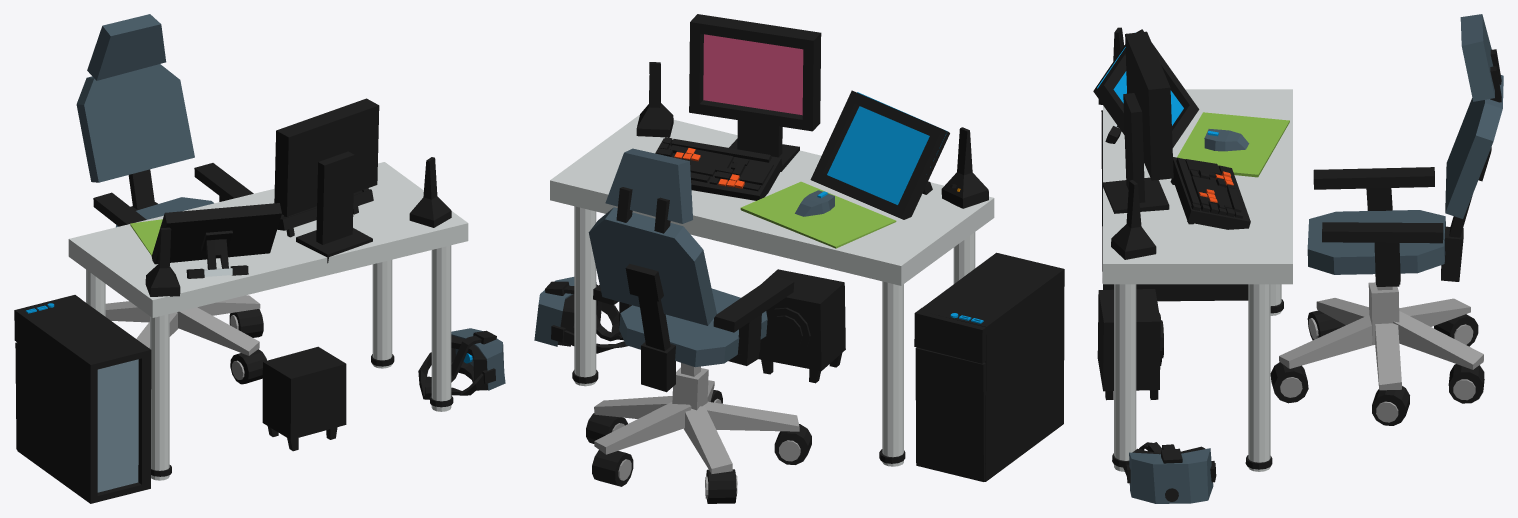
Rendered from Desk.glb.
3 views of the same model, side by side, from view 1: azimuth 30°, elevation 25°; view 2: azimuth 150°, elevation 25°; view 3: azimuth 270°, elevation 25° (orthographic). The views are drawn at different scales.
Parts seen in each view (by area): view 1: group888398126, group1983538, group81405755, group925625628, group1208538528, group431115471, group1667325453, group2046477336, group2099217571, group1838156572, group1716067366, group1572790744 (+15 smaller); view 2: group888398126, group1983538, group81405755, group925625628, group1208538528, group431115471, group755938708, group782932201, group1667325453, group1394341533, group639335673, group1716067366 (+23 smaller); view 3: group1983538, group81405755, group1394341533, group2046477336, group1208538528, group755938708, group1716067366, group2099217571, group925625628, group782932201, group1057092642, group970859449 (+22 smaller).
Part boxes in pixels (box(x1,y1,x2,y2)): group888398126: box(14, 295, 151, 503); group1983538: box(68, 162, 468, 317); group81405755: box(274, 98, 379, 263); group925625628: box(76, 64, 194, 182); group1208538528: box(262, 346, 346, 451); group431115471: box(154, 209, 281, 264); group1667325453: box(87, 14, 166, 80); group2046477336: box(418, 328, 505, 399); group2099217571: box(431, 245, 451, 411); group1838156572: box(150, 314, 169, 480); group1716067366: box(372, 260, 392, 368); group1572790744: box(177, 307, 259, 355); group888398126: box(914, 252, 1064, 481); group1983538: box(550, 115, 994, 285); group81405755: box(689, 14, 821, 171); group925625628: box(588, 207, 716, 325); group1208538528: box(759, 269, 845, 383); group431115471: box(827, 92, 949, 217); group755938708: box(655, 137, 782, 200); group782932201: box(740, 181, 896, 248); group1667325453: box(605, 148, 692, 223); group1394341533: box(619, 288, 767, 367); group639335673: box(882, 281, 903, 466); group1716067366: box(574, 206, 596, 386); group1983538: box(1103, 89, 1292, 284); group81405755: box(1102, 31, 1173, 213); group1394341533: box(1307, 210, 1445, 274); group2046477336: box(1123, 442, 1216, 503); group1208538528: box(1097, 289, 1163, 400); group755938708: box(1170, 157, 1250, 229); group1716067366: box(1248, 284, 1270, 471); group2099217571: box(1114, 284, 1136, 471); group925625628: box(1445, 75, 1503, 218); group782932201: box(1177, 112, 1289, 177); group1057092642: box(1322, 222, 1443, 243); group970859449: box(1313, 167, 1434, 189).
Size of the model in its own units: 1.52 by 1.03 by 1.08.
